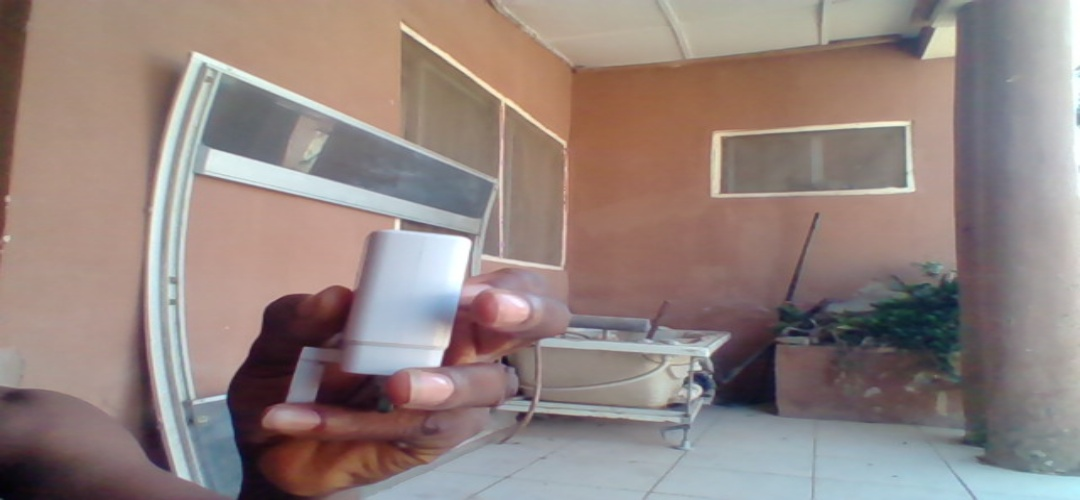phone_charger: (299, 215, 483, 410)
